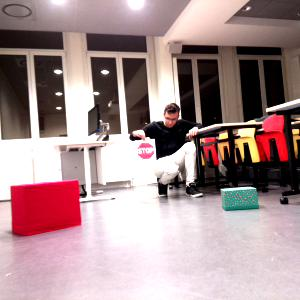stop: (137, 142, 155, 160)
